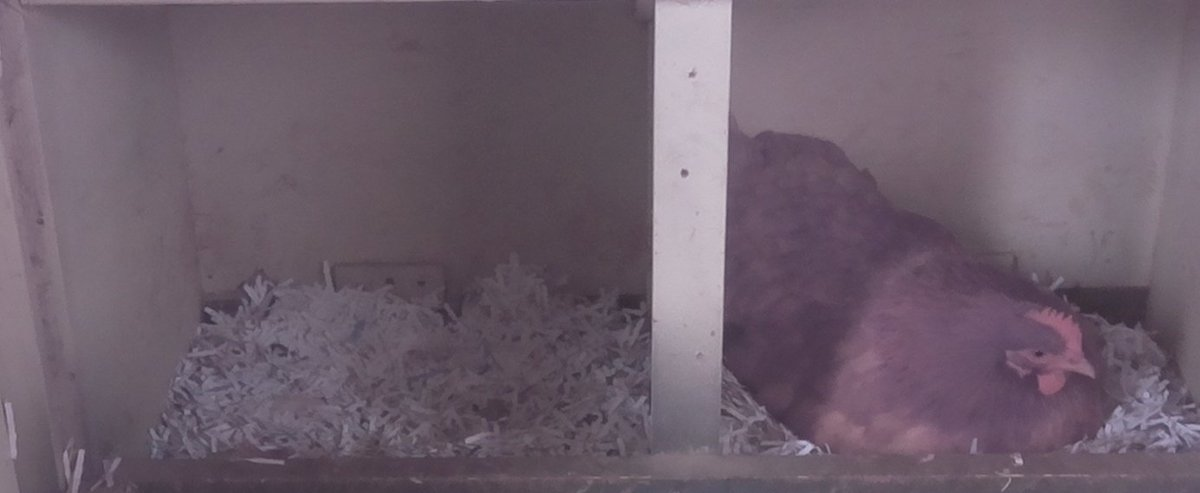hen: (729, 153, 1118, 449)
